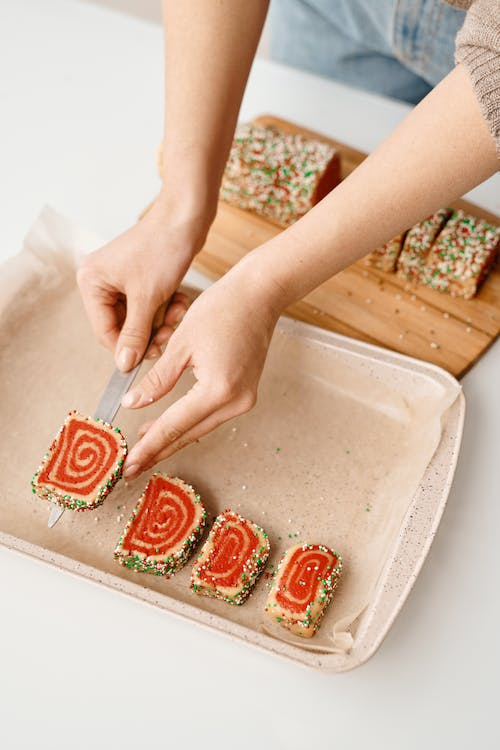knife: (45, 360, 142, 529)
